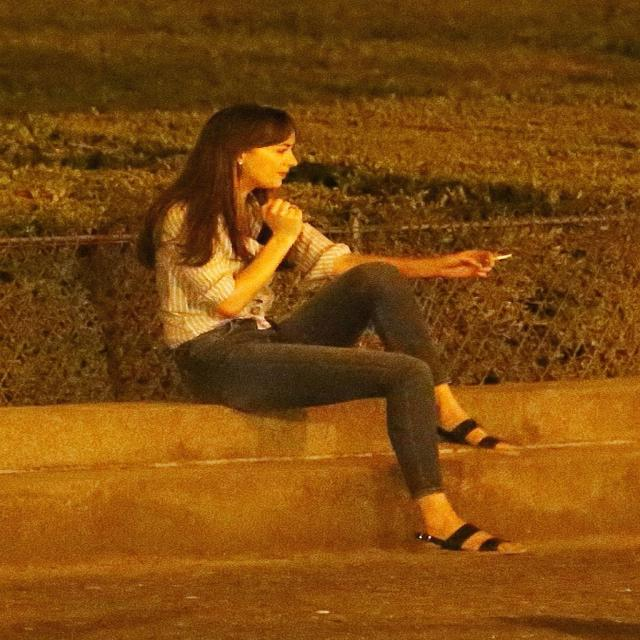smoking: (158, 98, 515, 281)
